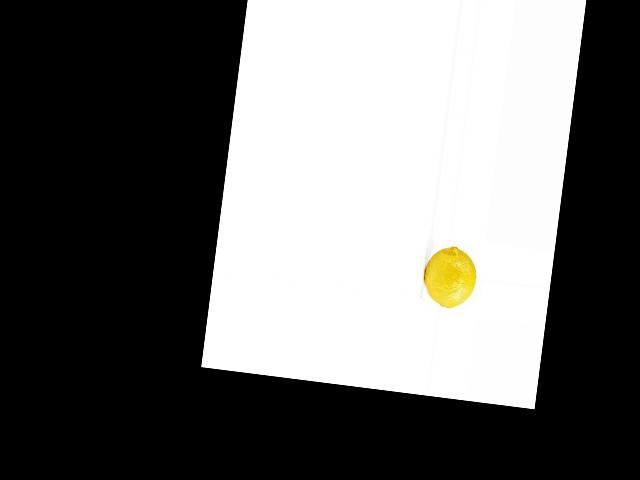lemon: (418, 233, 482, 317)
